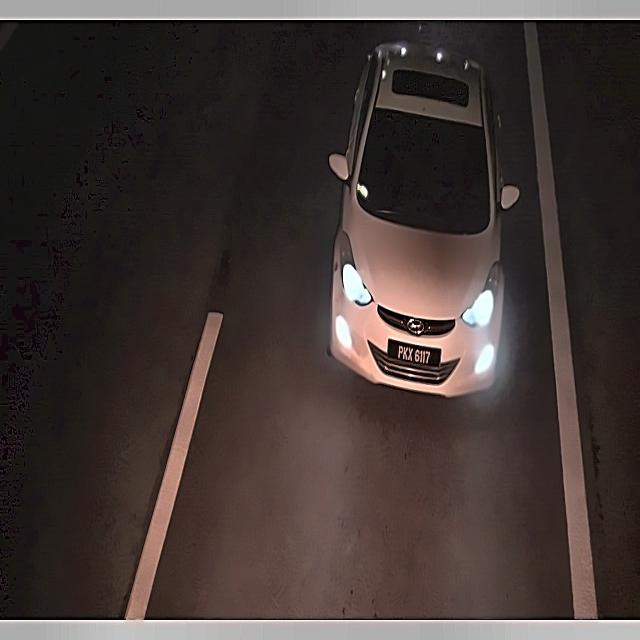car: (384, 334, 447, 374)
